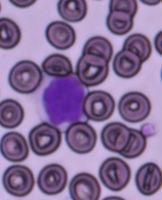M: (32, 74, 88, 128)
